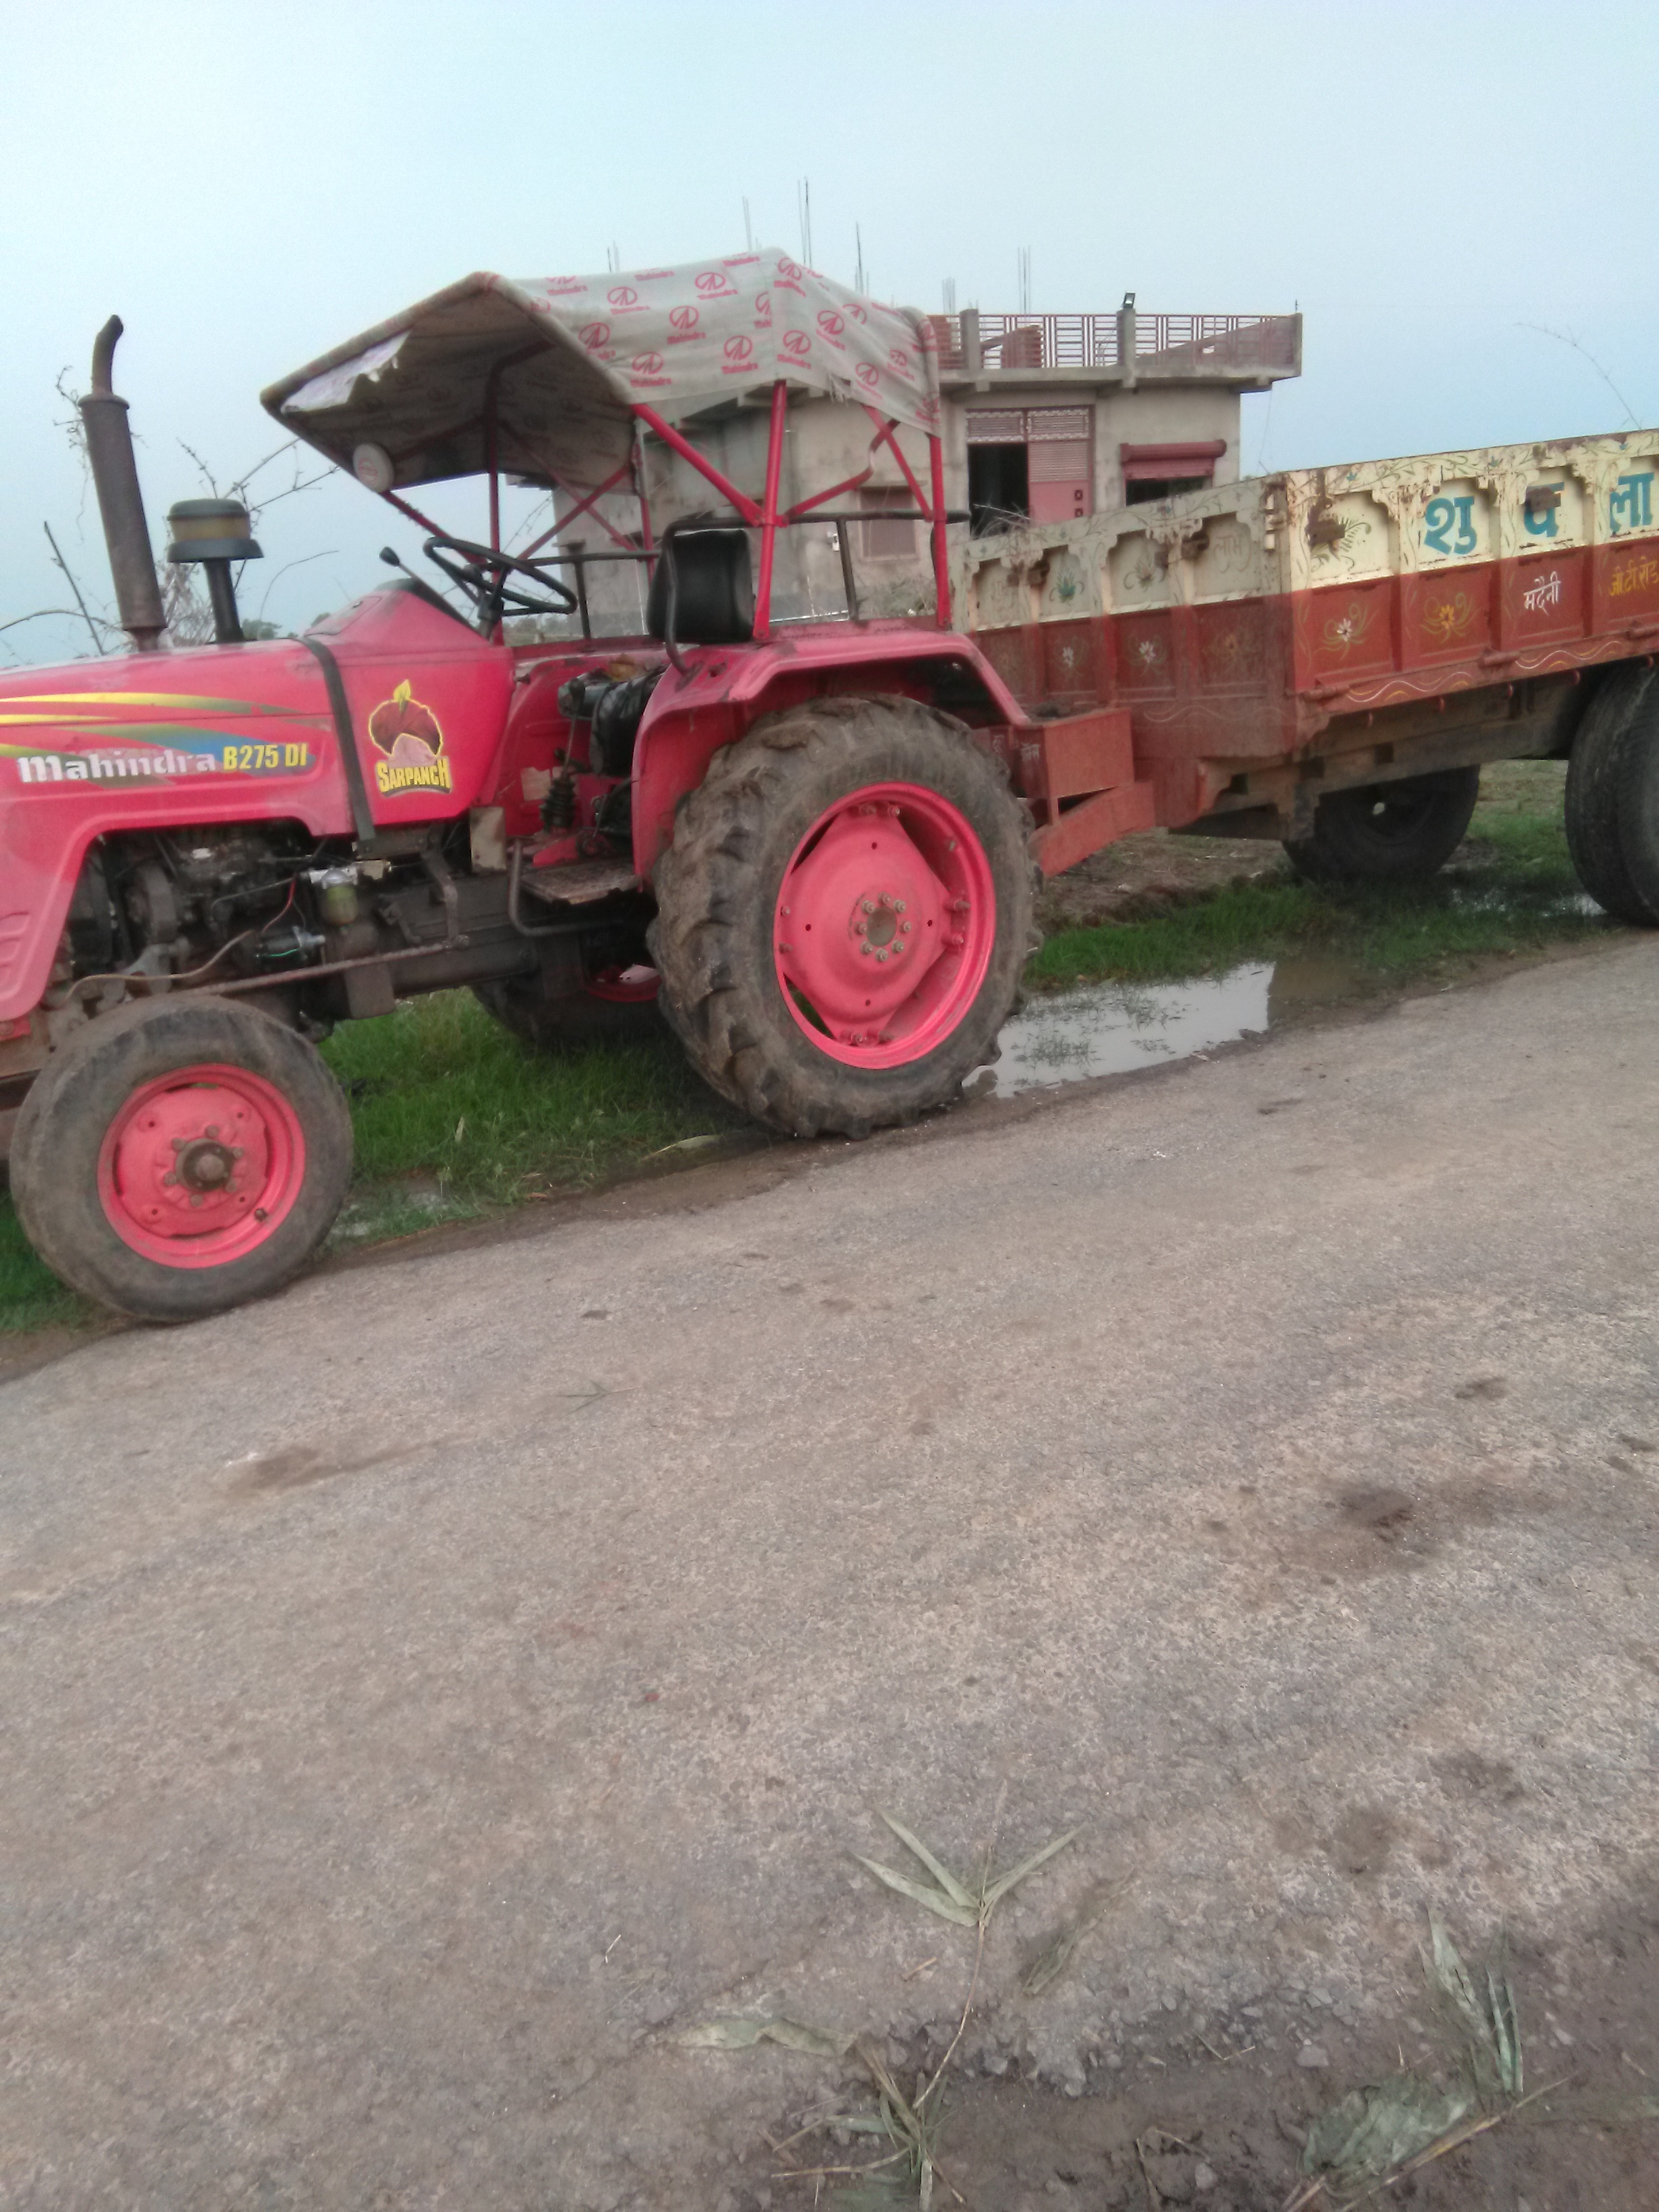tractor: (0, 237, 1659, 1332)
